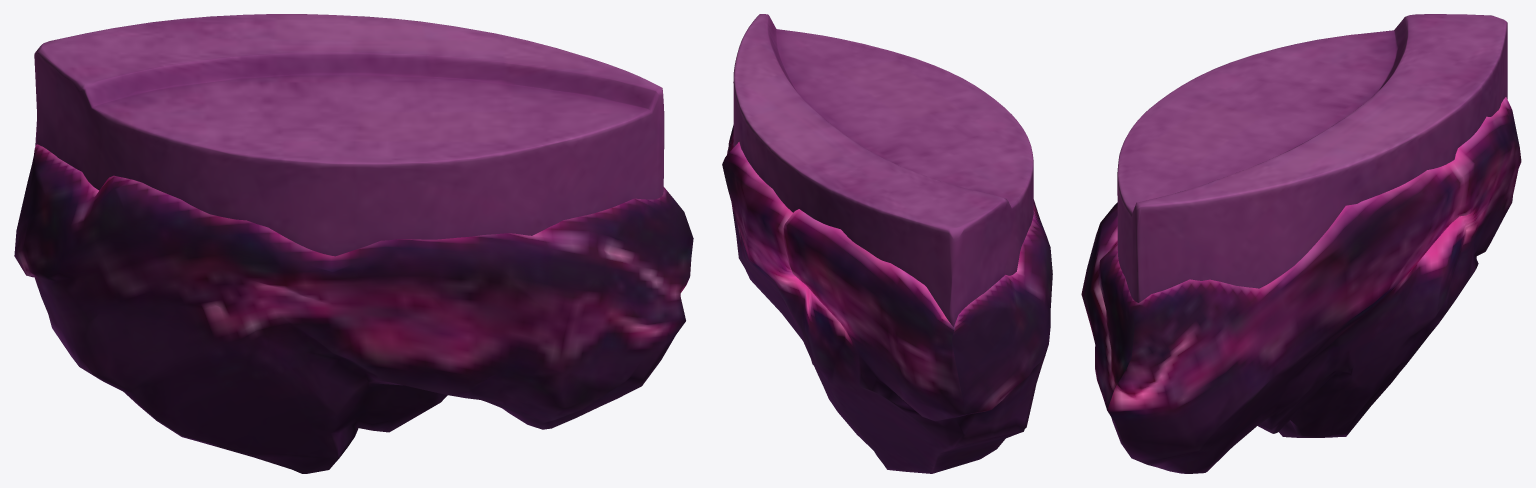
The model's file is sky_rock_02a2_chaos_v35.glb.
3 views of the same model, side by side, from view 1: azimuth 30°, elevation 25°; view 2: azimuth 150°, elevation 25°; view 3: azimuth 270°, elevation 25° (orthographic). The views are drawn at different scales.
Parts seen in each view (by area): view 1: rock_02a2; view 2: rock_02a2; view 3: rock_02a2.
Boxes of the visible parts, bbox=[...] form: rock_02a2: bbox=[14, 14, 693, 473]; rock_02a2: bbox=[722, 14, 1052, 473]; rock_02a2: bbox=[1081, 14, 1521, 473].
Size of the model in its own units: 34.4 by 25.49 by 28.99.
1 material, 1 textured.
